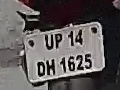1: (66, 29, 75, 47), (59, 57, 67, 73)
2: (75, 52, 85, 70)
4: (74, 29, 84, 47)
5: (83, 52, 94, 69)
6: (67, 55, 77, 72)
D: (37, 61, 46, 79)
H: (45, 58, 57, 75)
P: (53, 32, 64, 49)
U: (44, 35, 55, 51)
